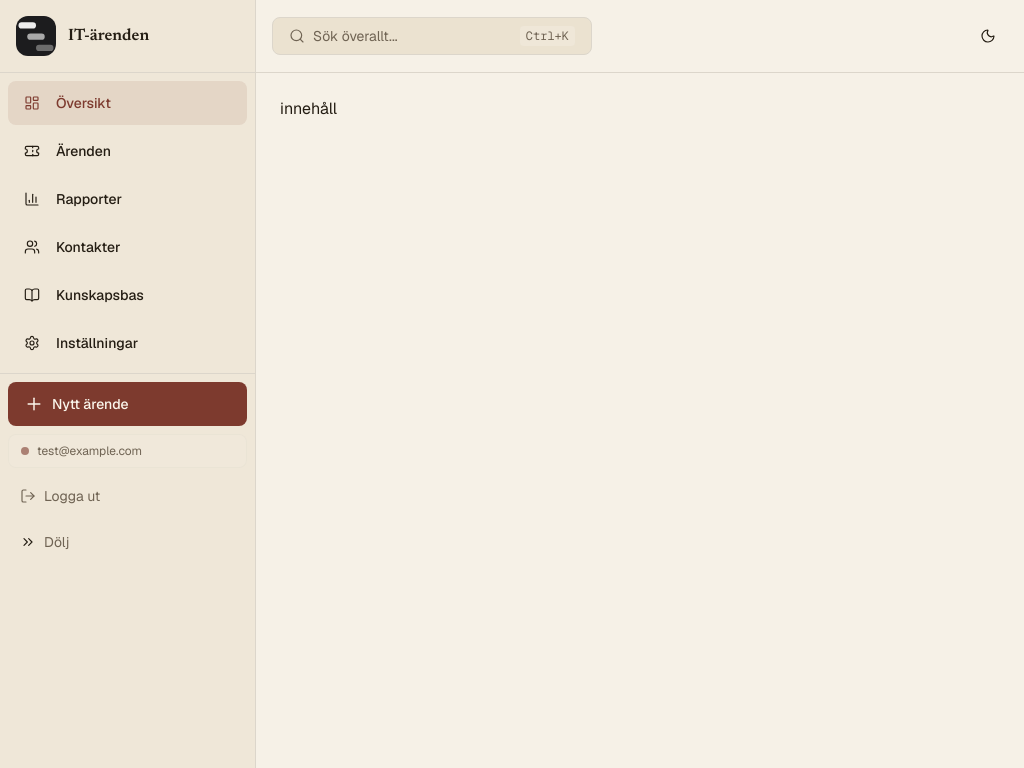
"Nytt ärende" — a11y-struktur (audit v5 MEDIUM-4/5) › behåller accessible name i kollapsat läge, där aria-label är enda namnet
Click the button with aria-label "Dölj sidofält" at (128, 542), box [8, 524, 247, 560]
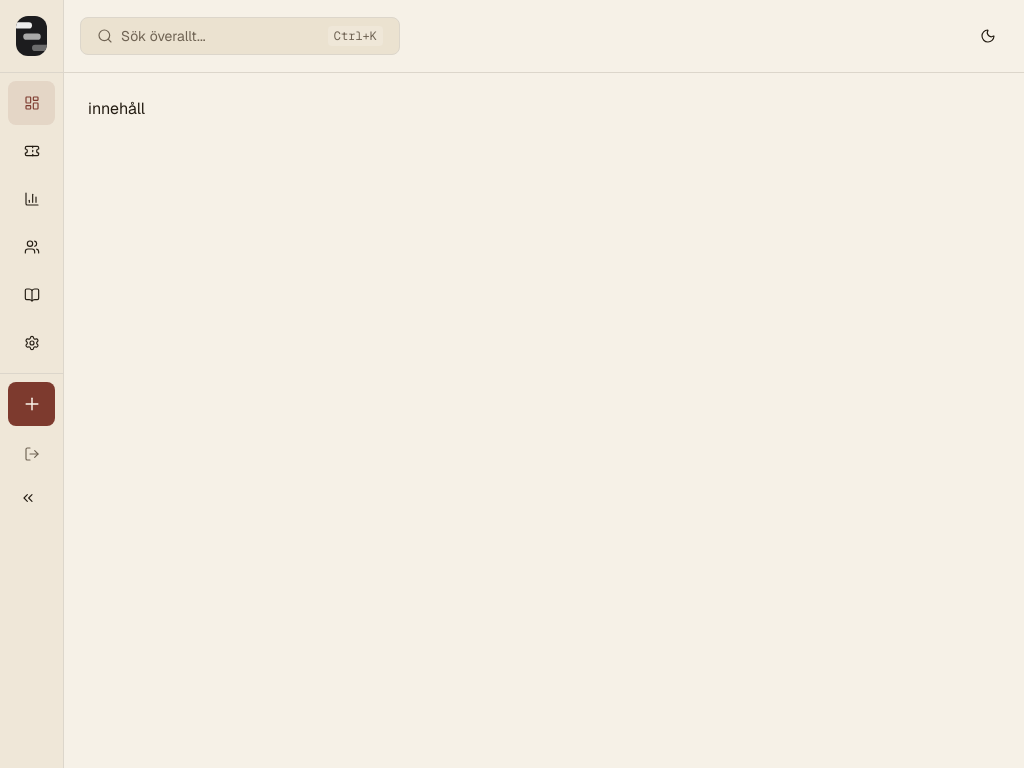
Result: the text "IT-ärenden" is gone
